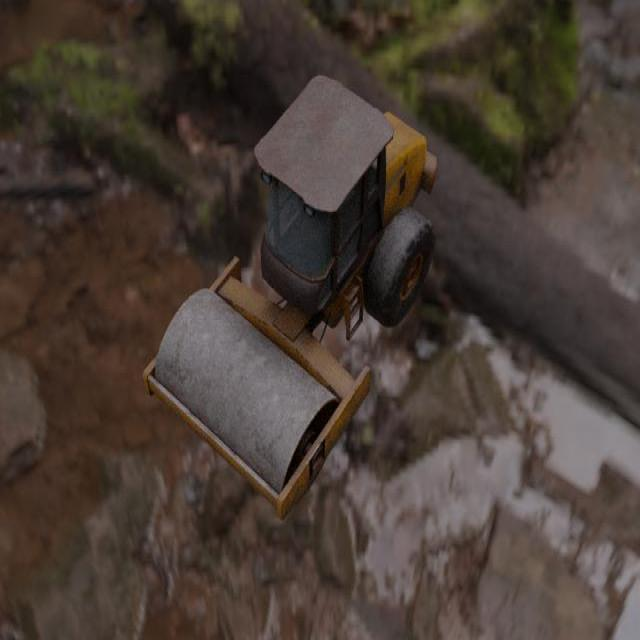Roller: (142, 75, 437, 521)
